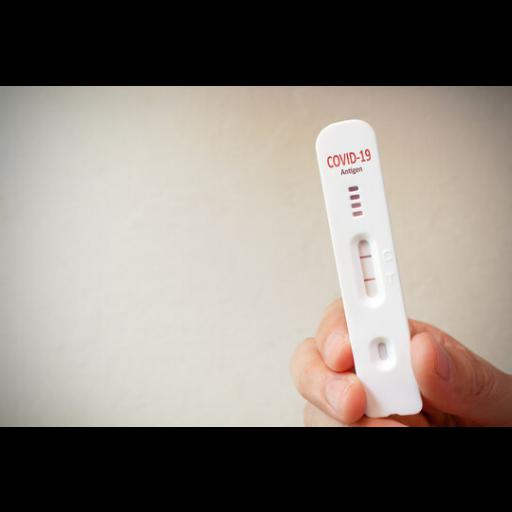Pos: (311, 116, 423, 420)
